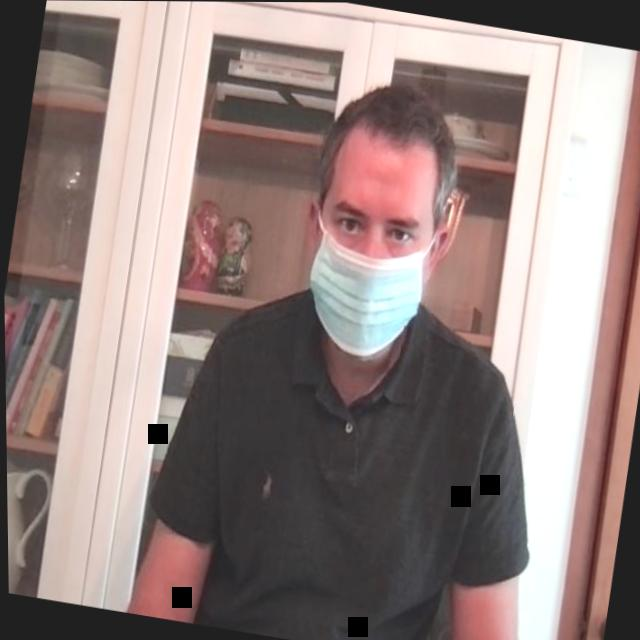Mask: (285, 69, 473, 374)
